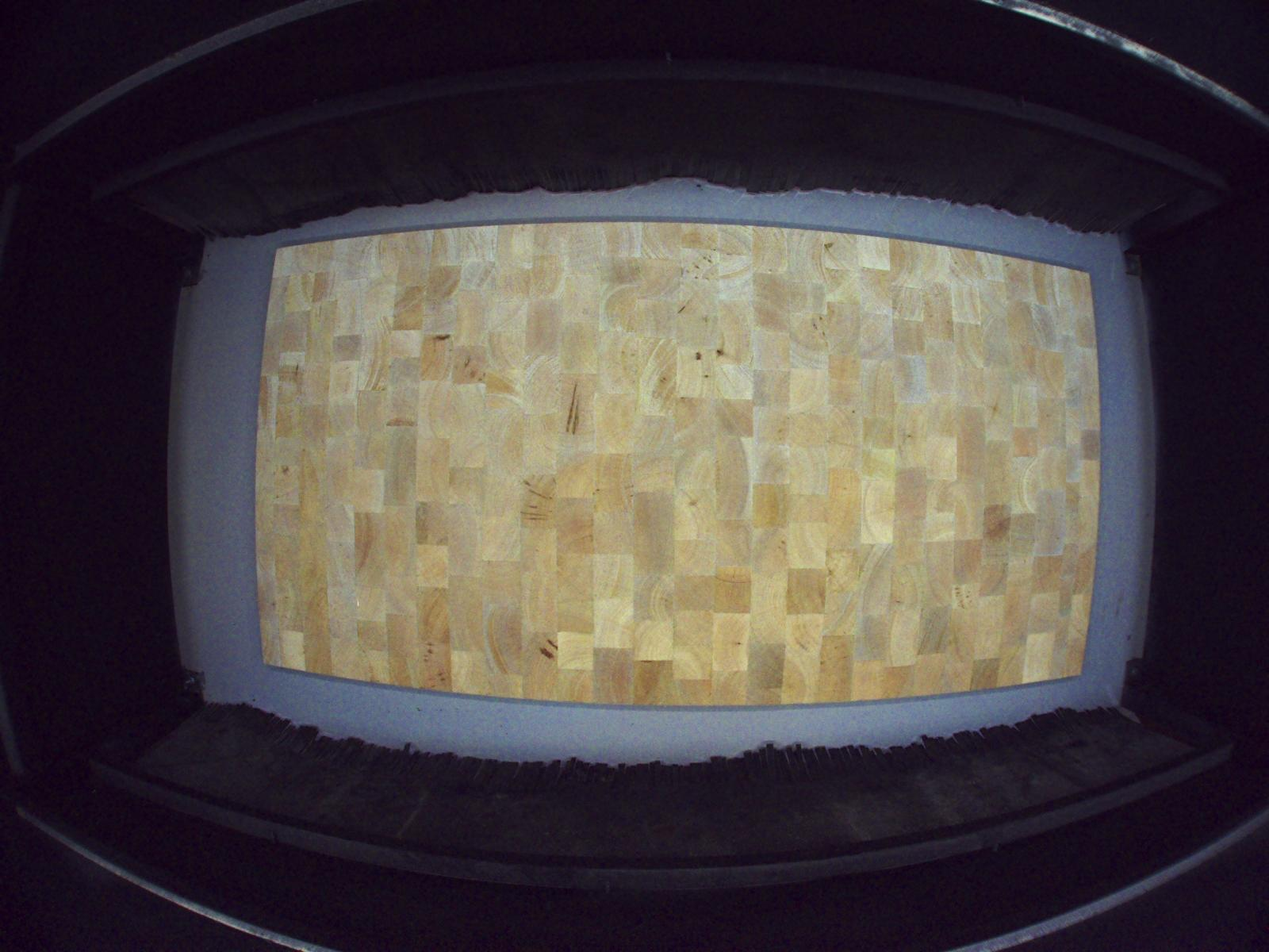sheck_ecuatoriano: (716, 327, 725, 359)
